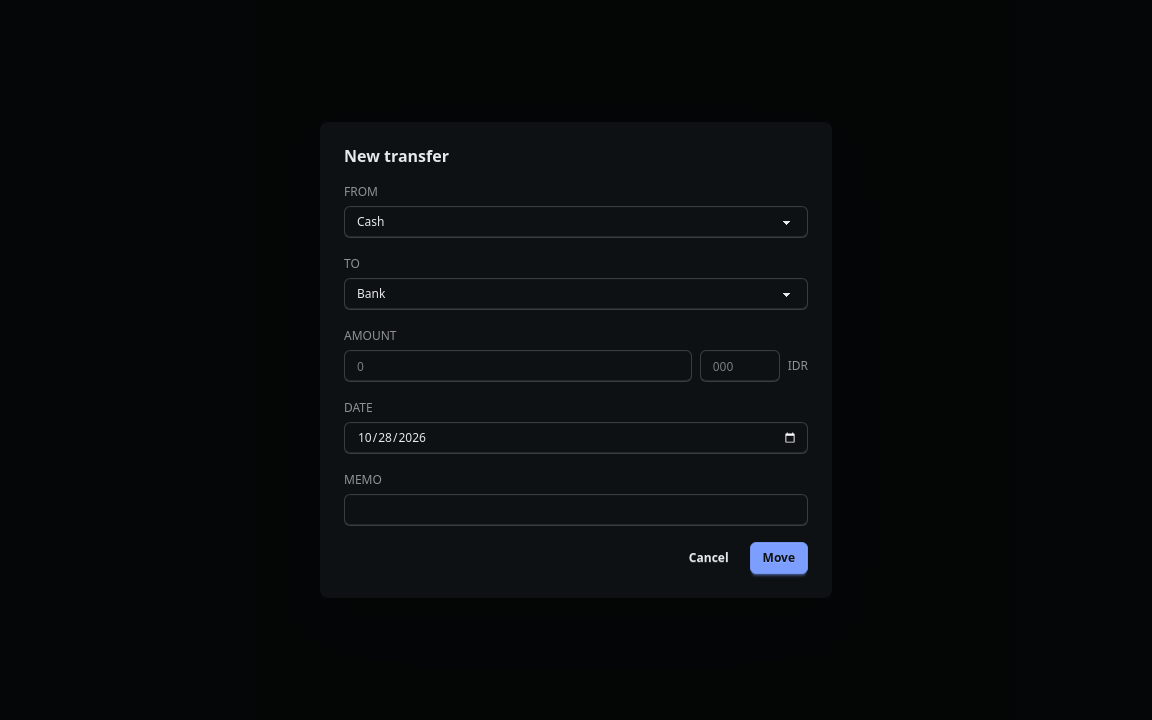
Test: TransferForm › shows server validation errors inline
The width and height of the screenshot is (1152, 720).
Type "10" into the field labelled "Amount".
click(518, 366); type("10")  # box [344,350,692,382]
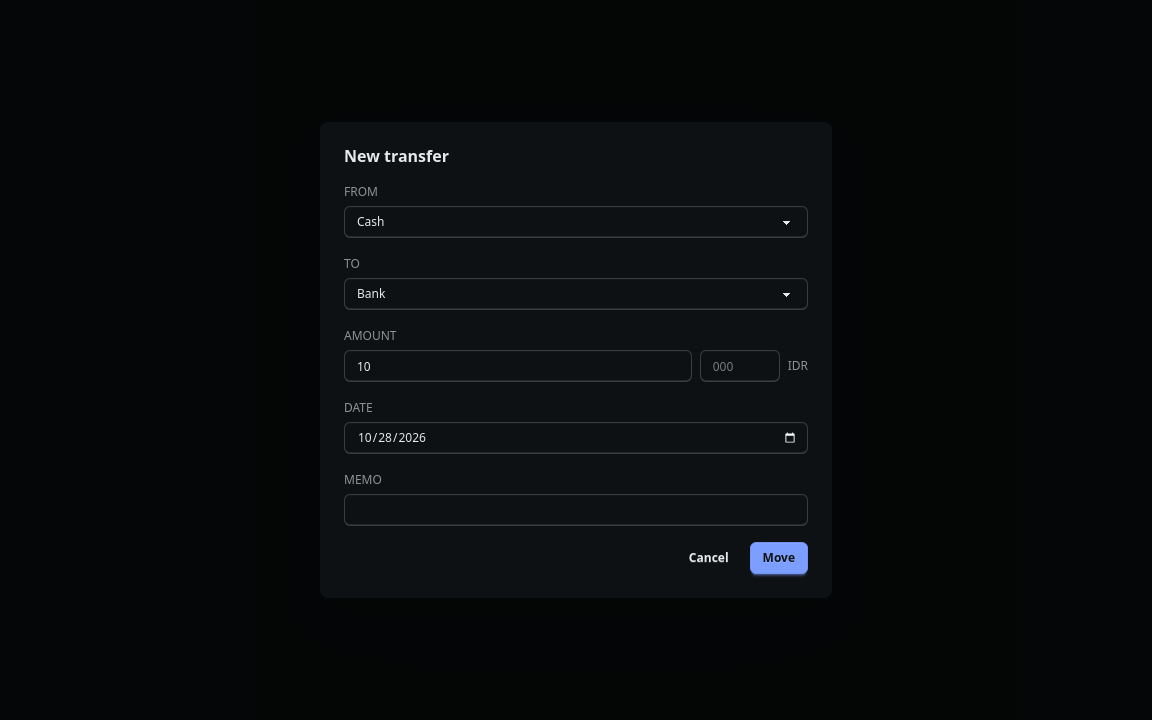
Type "2026-10-21" into the date field labelled "Date".
click(576, 438); type("2026-10-21")  # box [344,422,808,454]
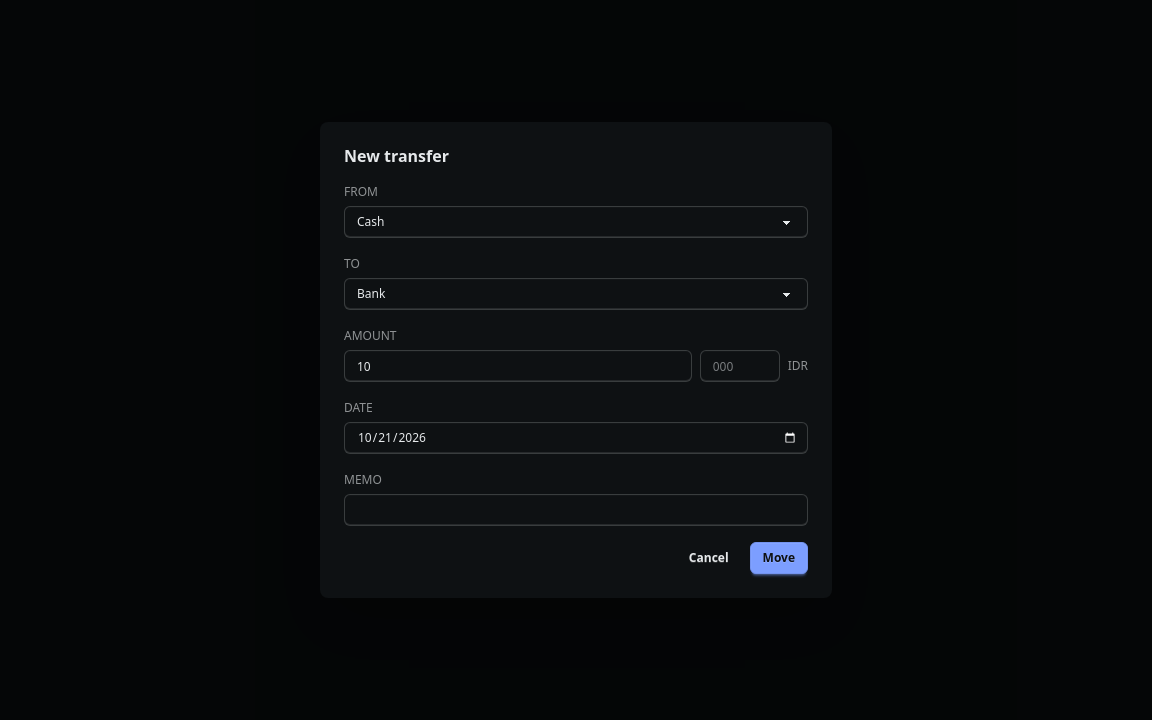
Click the button "Move".
click(779, 558)  # box [750,542,808,574]
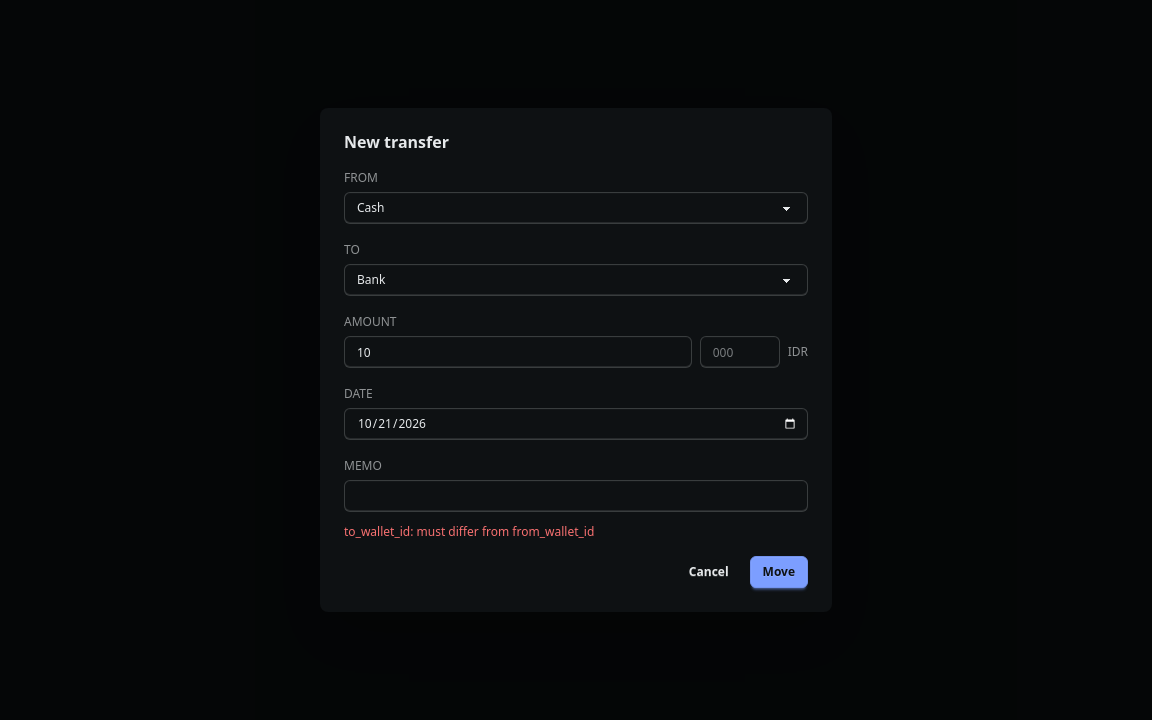
Check: the list item "to_wallet_id: must differ from from_wallet_id" is shown, box [344,523,594,540]
